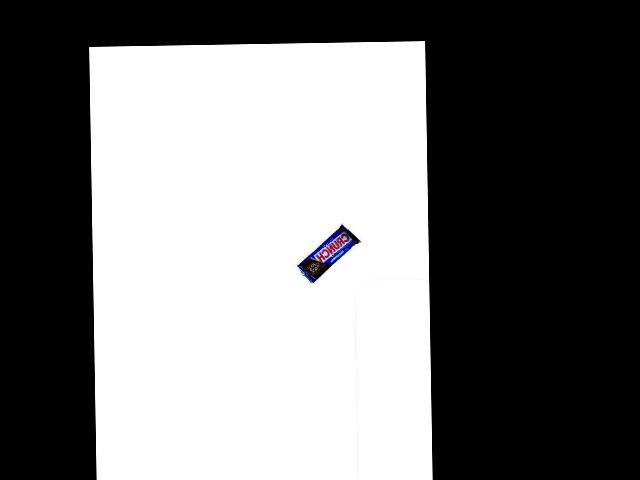chocolate: (295, 223, 362, 284)
